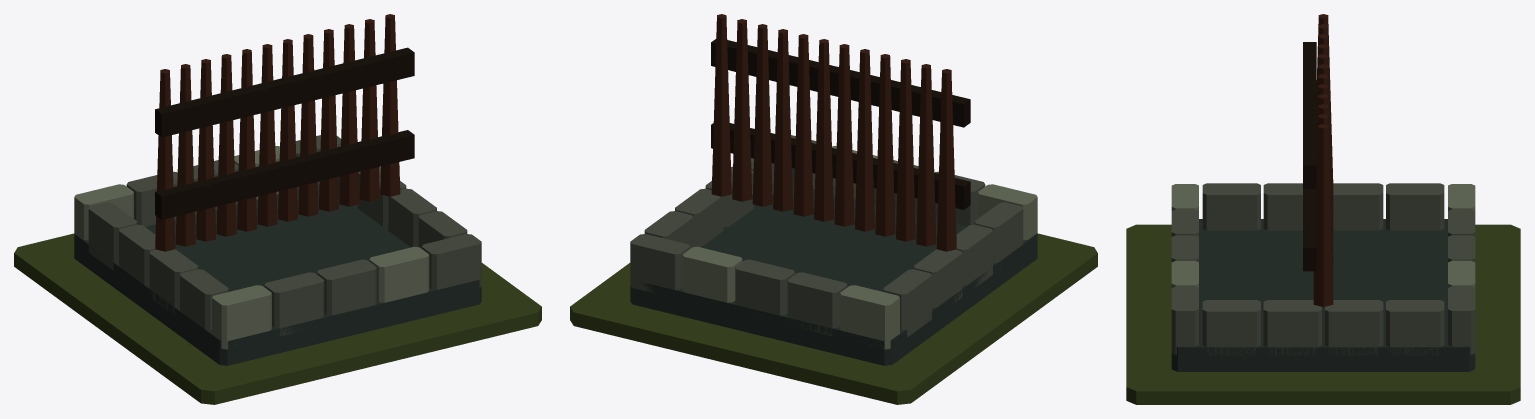
File: wall_t1.glb
The picture shows the model from 3 angles, left to right: view 1: azimuth 30°, elevation 25°; view 2: azimuth 150°, elevation 25°; view 3: azimuth 270°, elevation 25°; orthographic projection.
Visible parts, largest first — view 1: MMR | wall | T01 Architecture.001, MMR | wall | Tier 01 Ground.001; view 2: MMR | wall | T01 Architecture.001, MMR | wall | Tier 01 Ground.001; view 3: MMR | wall | T01 Architecture.001, MMR | wall | Tier 01 Ground.001.
Part boxes in pixels (x1=…): MMR | wall | T01 Architecture.001: x1=74, y1=14, x2=481, y2=365; MMR | wall | Tier 01 Ground.001: x1=14, y1=233, x2=541, y2=404; MMR | wall | T01 Architecture.001: x1=630, y1=14, x2=1037, y2=365; MMR | wall | Tier 01 Ground.001: x1=570, y1=233, x2=1097, y2=404; MMR | wall | T01 Architecture.001: x1=1171, y1=14, x2=1475, y2=371; MMR | wall | Tier 01 Ground.001: x1=1126, y1=224, x2=1520, y2=404.
Size of the model in its own units: 1.3 by 0.91 by 1.3.
Materials: 1 (1 with a texture image).
